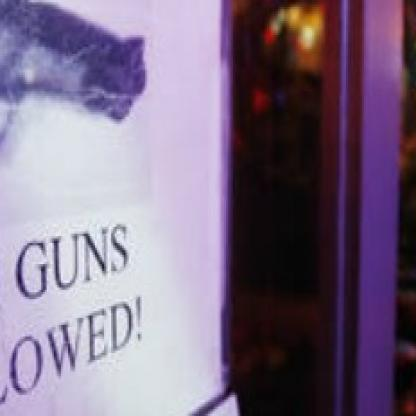gun: (0, 0, 145, 206)
